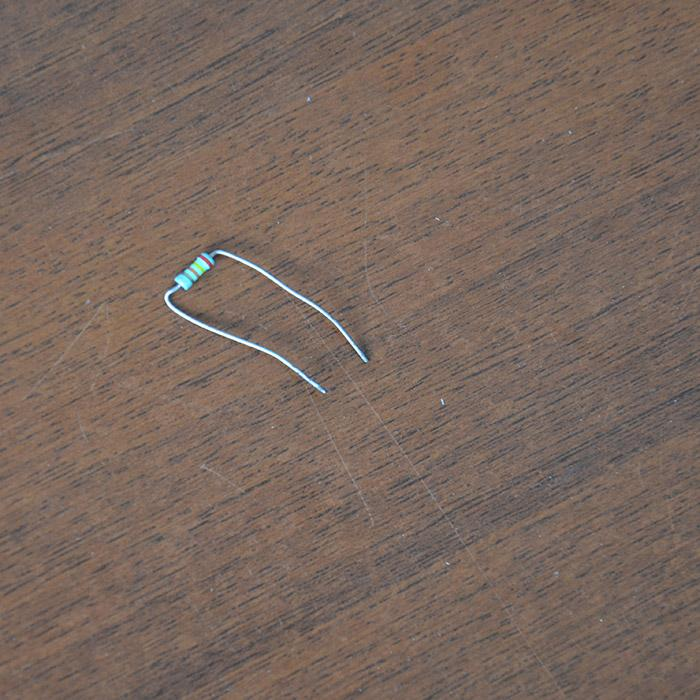resistor: (172, 252, 215, 292)
